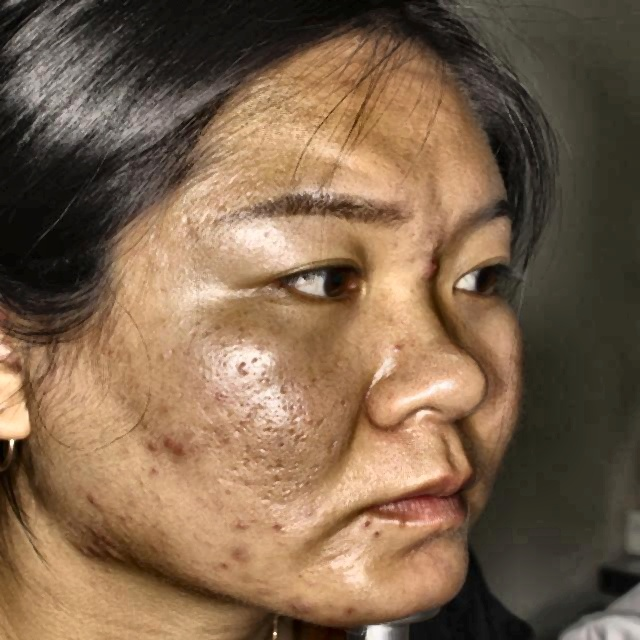pustule: (284, 591, 320, 621), (418, 247, 443, 282), (230, 537, 256, 566), (82, 489, 108, 513), (167, 438, 188, 462), (256, 580, 274, 608), (144, 434, 160, 462)
